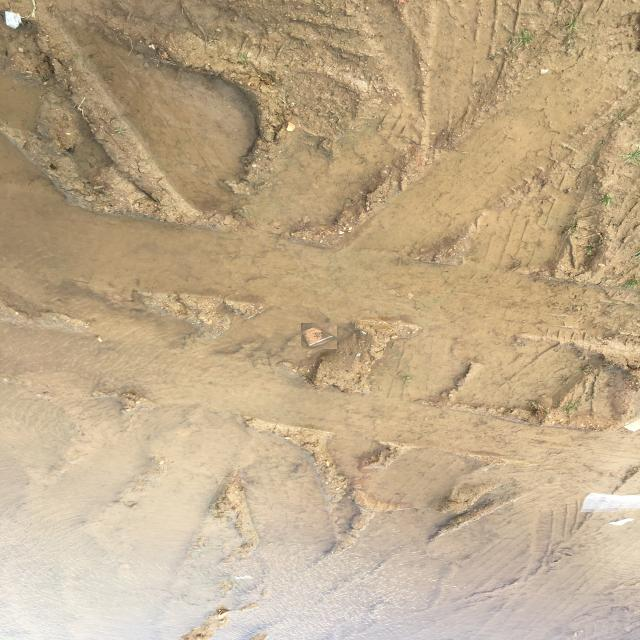Plastic: (574, 490, 640, 512)
Plastic cup: (301, 323, 337, 349)
